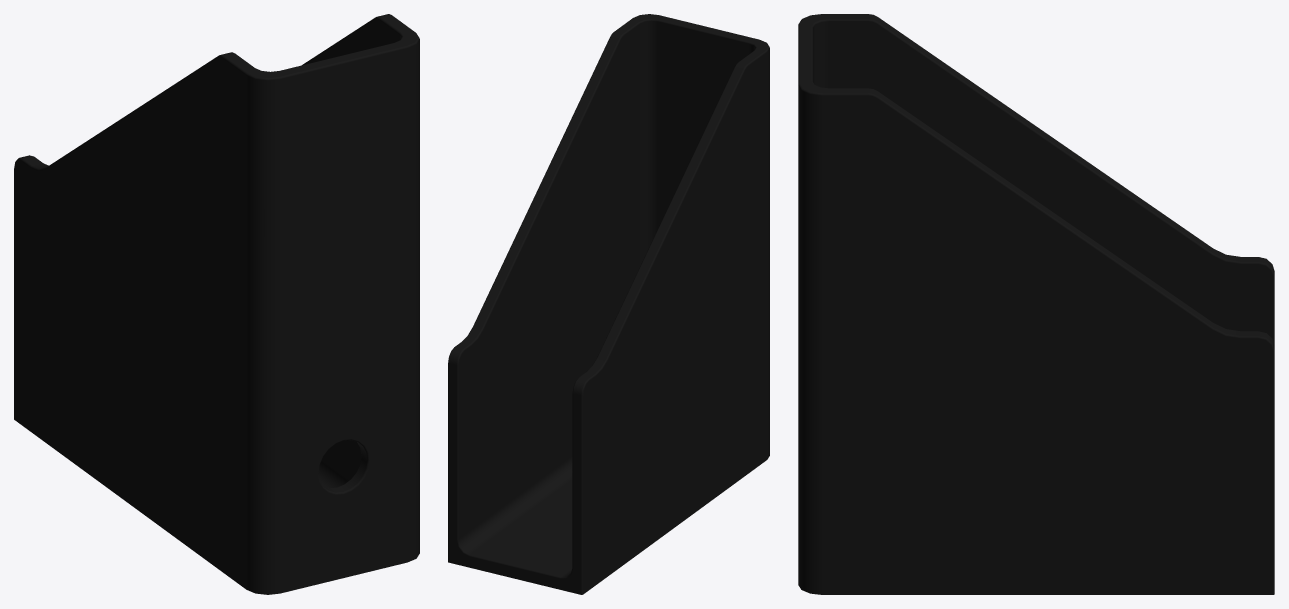
File: organiser.fbx
The picture shows the model from 3 angles, left to right: view 1: azimuth 30°, elevation 25°; view 2: azimuth 150°, elevation 25°; view 3: azimuth 270°, elevation 25°; orthographic projection. The views are drawn at different scales.
Parts seen in each view (by area): view 1: filer_organiser1; view 2: filer_organiser1; view 3: filer_organiser1.
Part boxes in pixels (<box>): filer_organiser1: <box>14,14,419,594</box>; filer_organiser1: <box>448,14,769,594</box>; filer_organiser1: <box>798,14,1274,594</box>.
Bounding box in the file's own units: 10 × 29 × 25.
